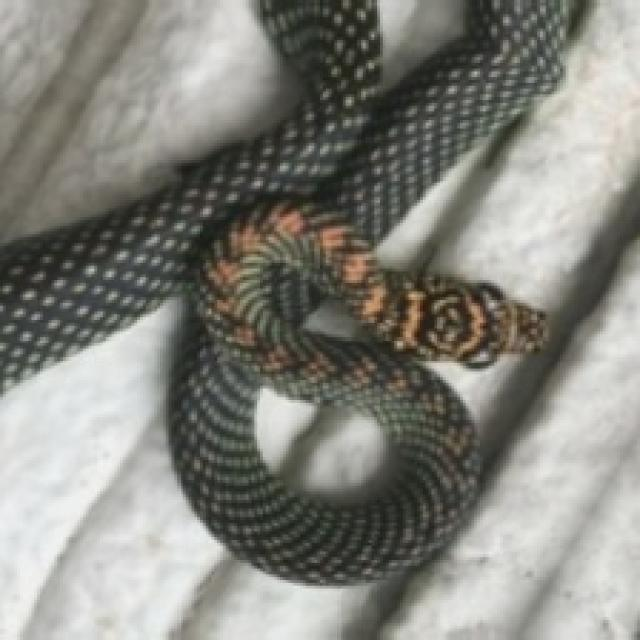paradise tree snake: (0, 0, 571, 389), (169, 203, 543, 583), (274, 354, 474, 546), (374, 283, 537, 360)
